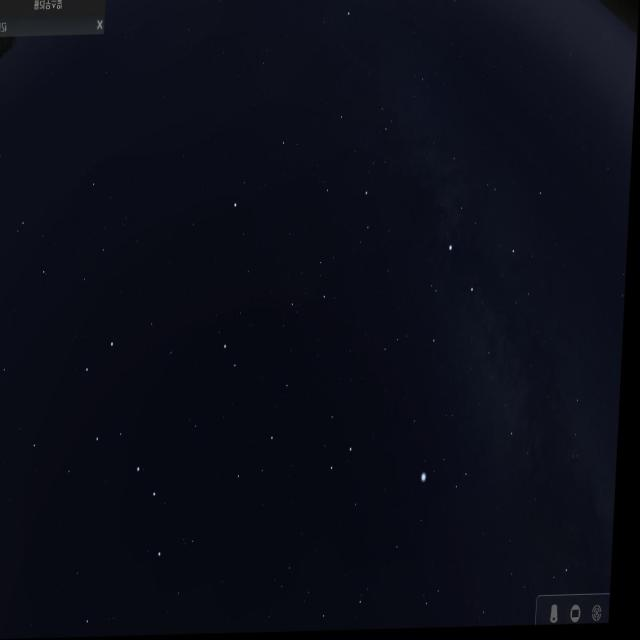cygnus: (417, 234, 541, 440)
lyra: (414, 436, 483, 518)
ursa_major: (80, 332, 194, 572)
